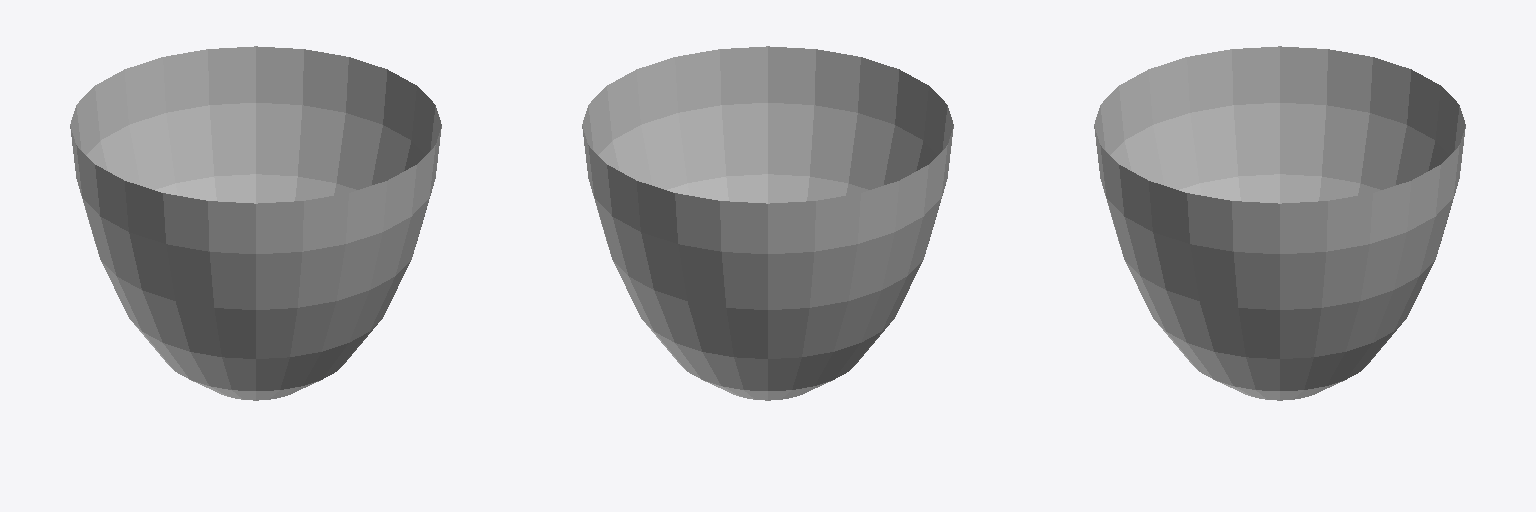
File: TheKeepTorchRight.obj
3 views of the same model, side by side, from view 1: azimuth 30°, elevation 25°; view 2: azimuth 150°, elevation 25°; view 3: azimuth 270°, elevation 25° (orthographic).
Visible parts, largest first — view 1: Torches.001_Cube.004; view 2: Torches.001_Cube.004; view 3: Torches.001_Cube.004.
Boxes of the visible parts, x1,y1,x2,y2 form: Torches.001_Cube.004: [70, 46, 441, 400]; Torches.001_Cube.004: [582, 46, 953, 400]; Torches.001_Cube.004: [1094, 46, 1465, 400].
Bounding box in the file's own units: 57.88 × 44.99 × 57.88.